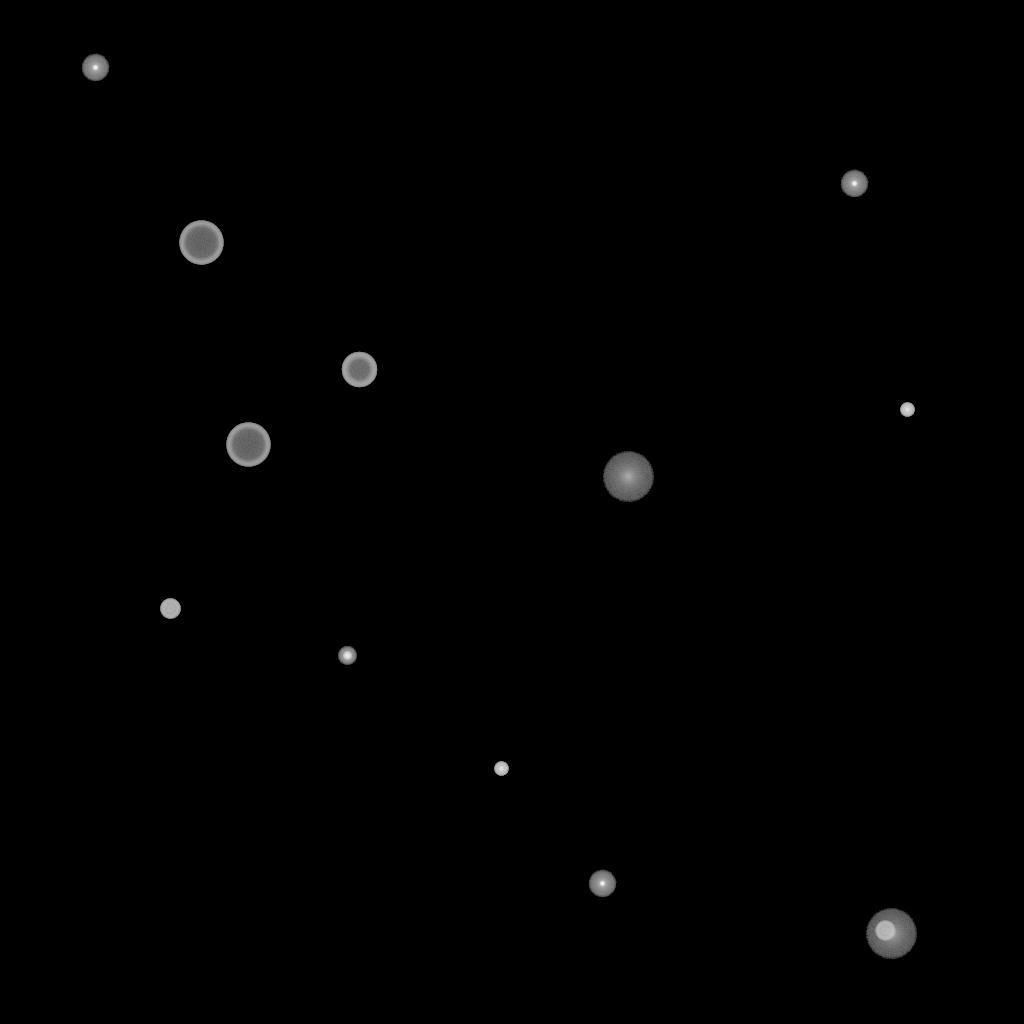depth:-10: (81, 54, 109, 82), (840, 170, 868, 198), (588, 870, 616, 898)
depth:-20: (338, 647, 356, 665)
depth:-30: (900, 403, 914, 417), (494, 762, 508, 776)
depth:-40: (875, 921, 895, 941), (160, 599, 180, 619)
depth:-60: (341, 352, 377, 388)
depth:-70: (179, 221, 223, 265), (226, 423, 270, 467)
depth:20: (602, 452, 654, 502), (865, 909, 917, 959)
